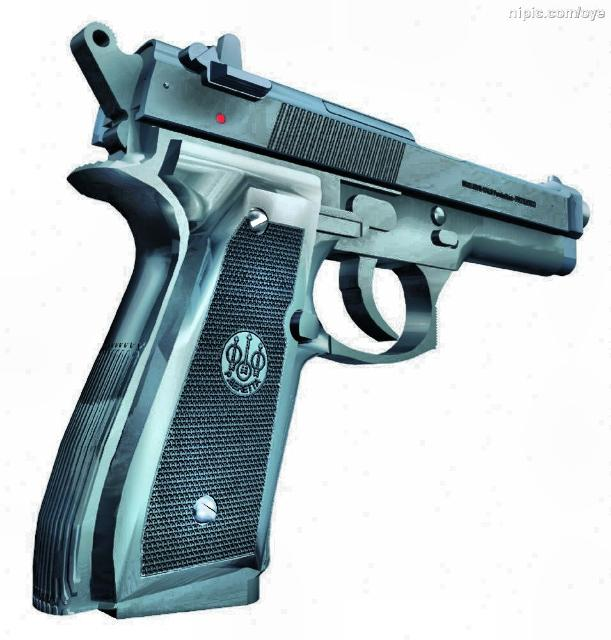pistol: (23, 40, 592, 624)
